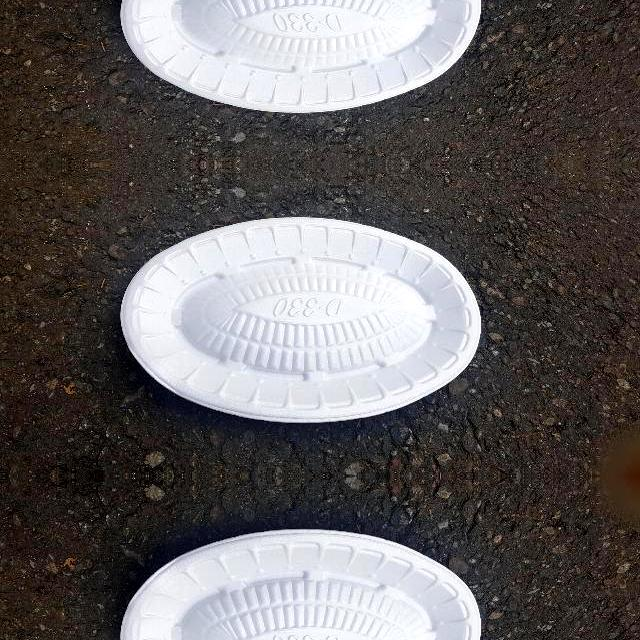Styrofoam: (120, 216, 481, 422), (121, 215, 481, 421), (121, 0, 481, 113), (120, 0, 481, 112), (120, 528, 481, 640), (121, 529, 481, 640)
